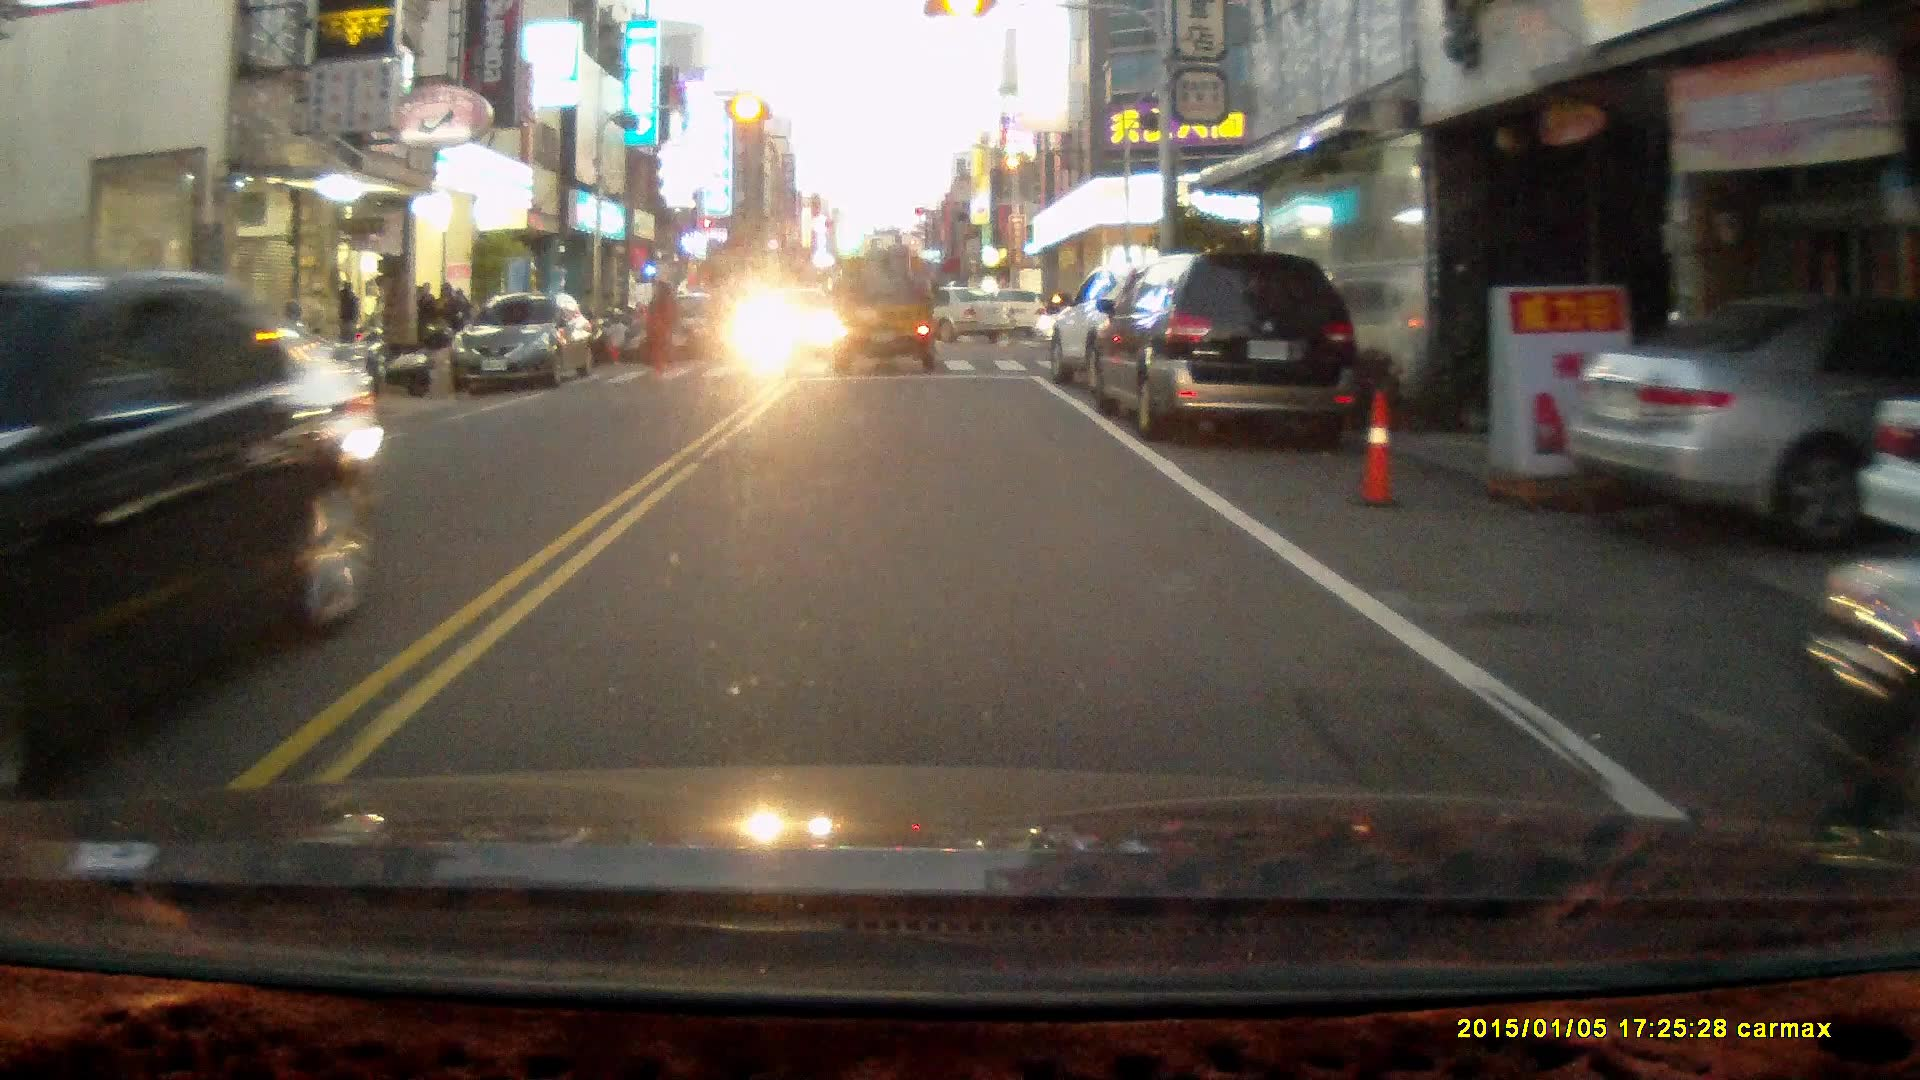pedestrian: (641, 276, 679, 381), (602, 316, 628, 370)
vehicle: (2, 272, 383, 773), (1565, 299, 1920, 532), (1086, 247, 1357, 447), (62, 325, 374, 436), (1047, 263, 1234, 412), (823, 236, 942, 382), (466, 298, 595, 396), (1853, 397, 1920, 539), (868, 289, 1013, 347), (641, 297, 734, 363)
